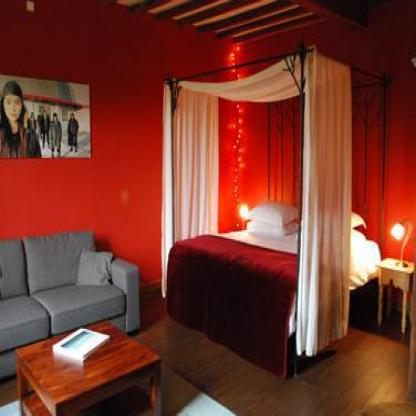other: (229, 106, 251, 228), (390, 218, 406, 246)
